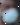with_mask: (1, 2, 20, 25)
